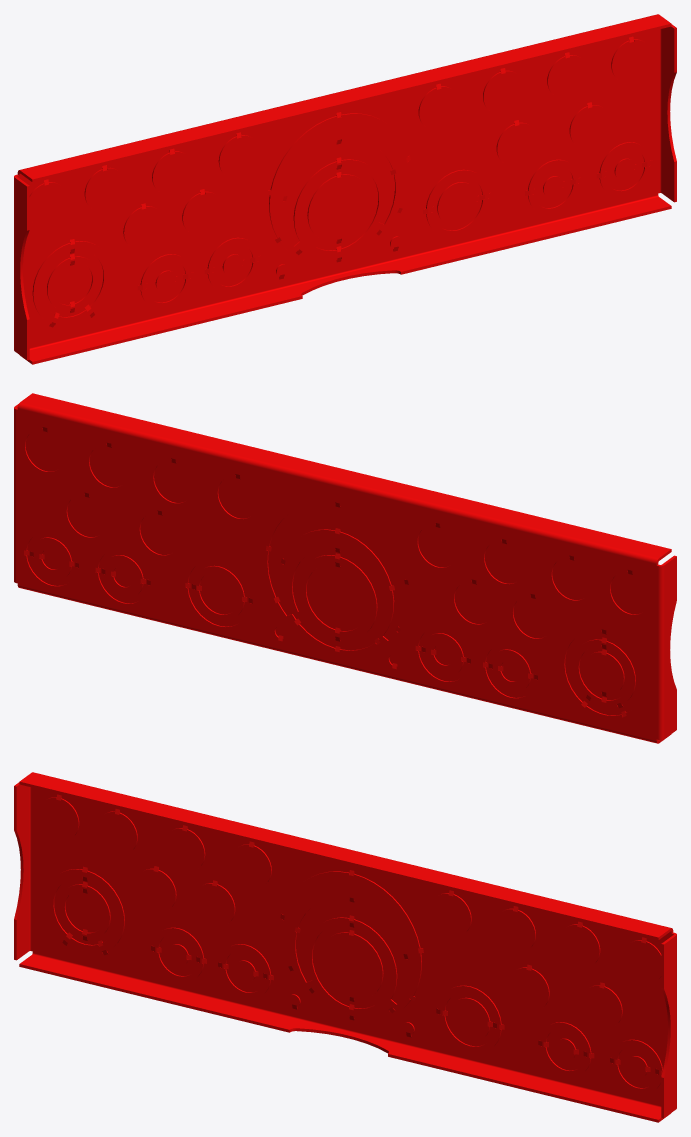
The model's file is sb_right.glb.
3 views of the same model, one above another, from view 1: azimuth 30°, elevation 25°; view 2: azimuth 150°, elevation 25°; view 3: azimuth 330°, elevation 25° (orthographic).
Parts seen in each view (by area): view 1: BRep_1.002; view 2: BRep_1.002; view 3: BRep_1.002.
Part boxes in pixels (<box>): BRep_1.002: <box>14,14,676,364</box>; BRep_1.002: <box>14,393,676,743</box>; BRep_1.002: <box>14,772,676,1122</box>.
Size of the model in its own units: 0.3619 by 0.0986 by 0.0142.
